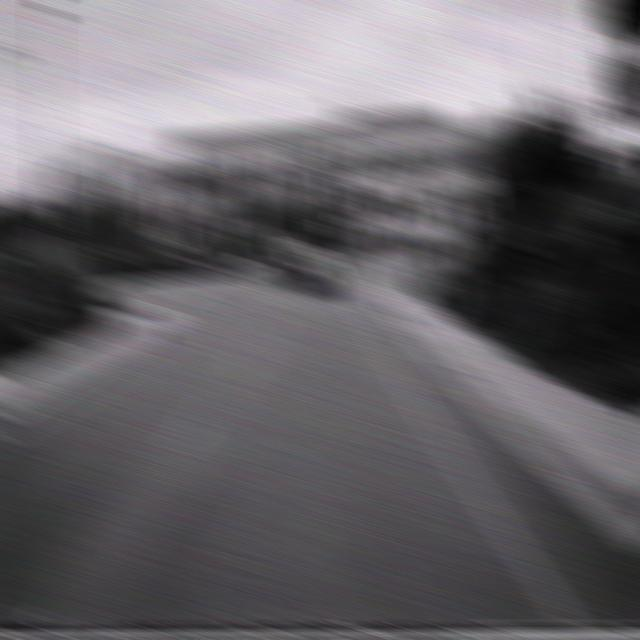stop_sign: (398, 177, 429, 212)
